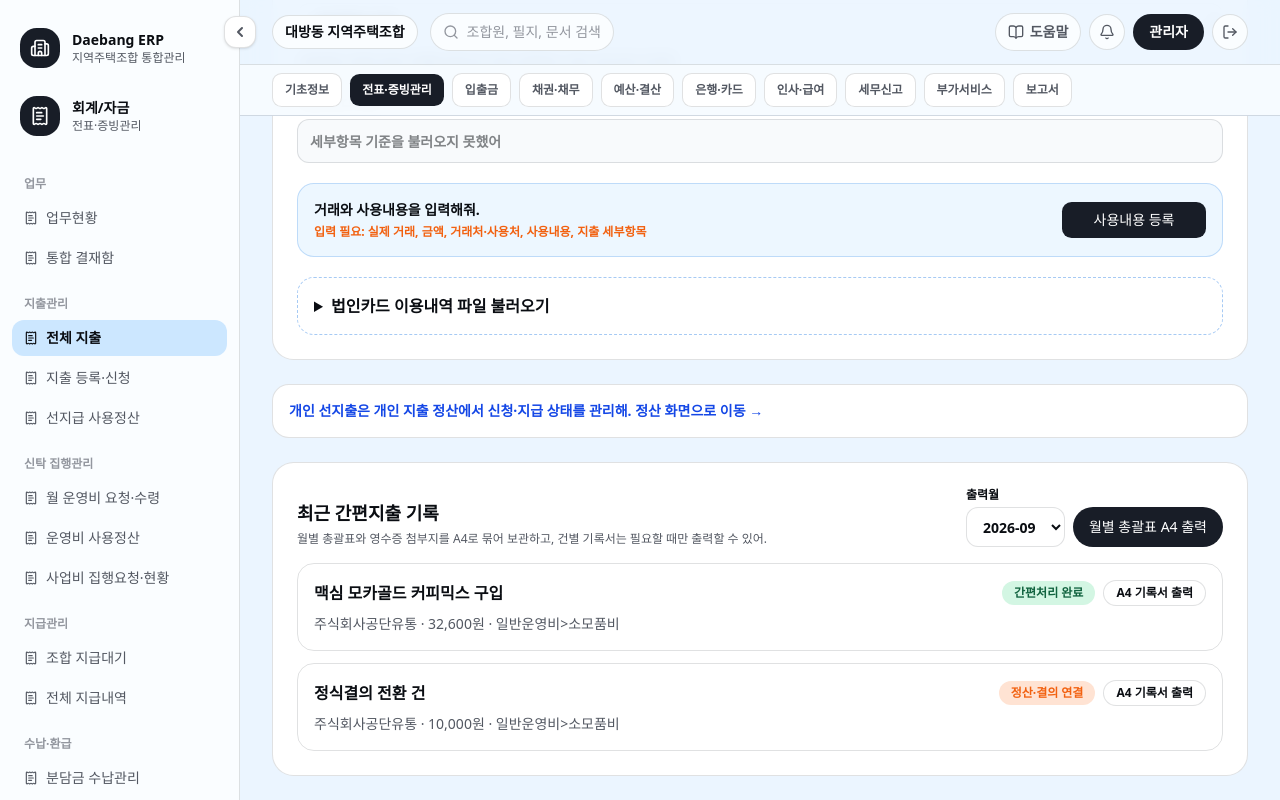
Test: QuickExpensePage › prints a monthly summary and keeps converted records outside the management total
This screenshot has width=1280, height=800.
(page scrolled)
Click the button "월별 총괄표 A4 출력" at (1148, 527), box [1073,507,1223,547]
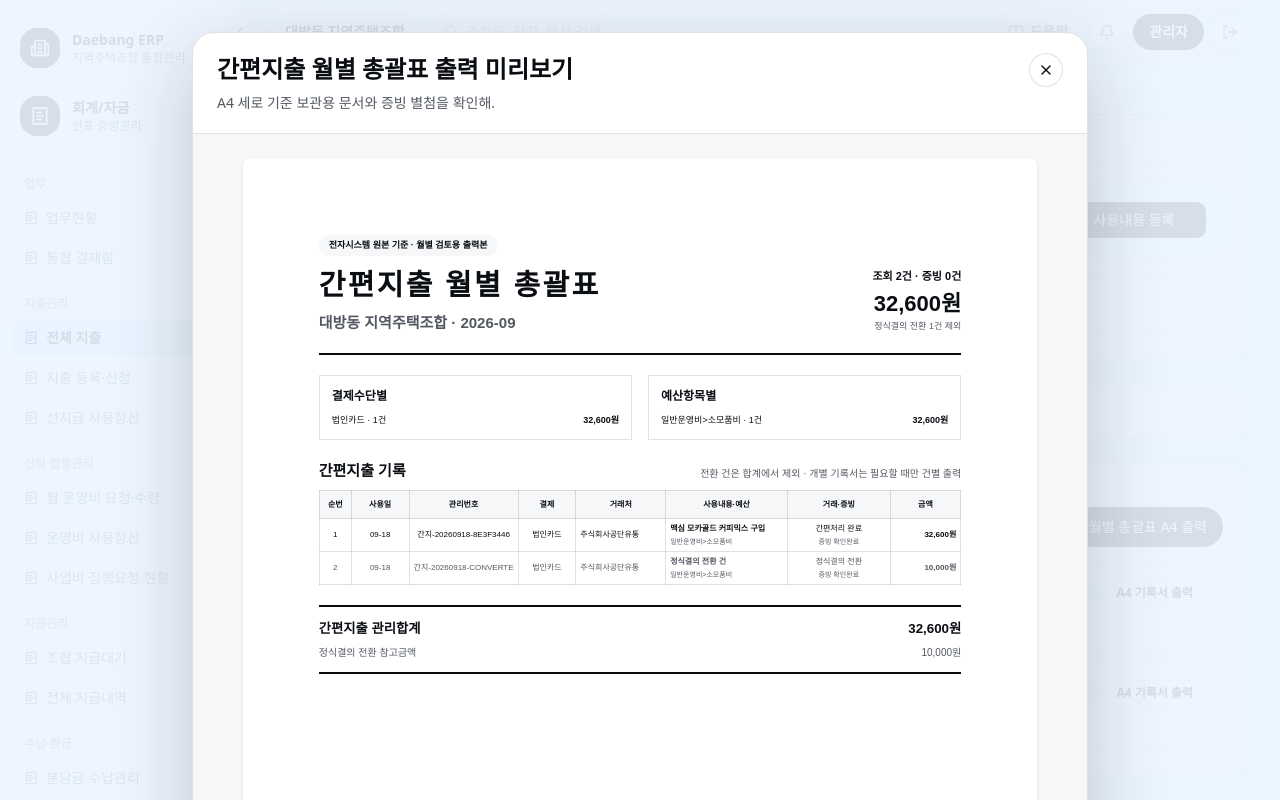
Expected: the text "간편지출 관리합계" is shown, [319,619,420,638]
Expected: the text "정식결의 전환 참고금액" is shown, [319,646,416,660]
Expected: the text "32,600원" below "조회" is shown, [874,292,961,316]
